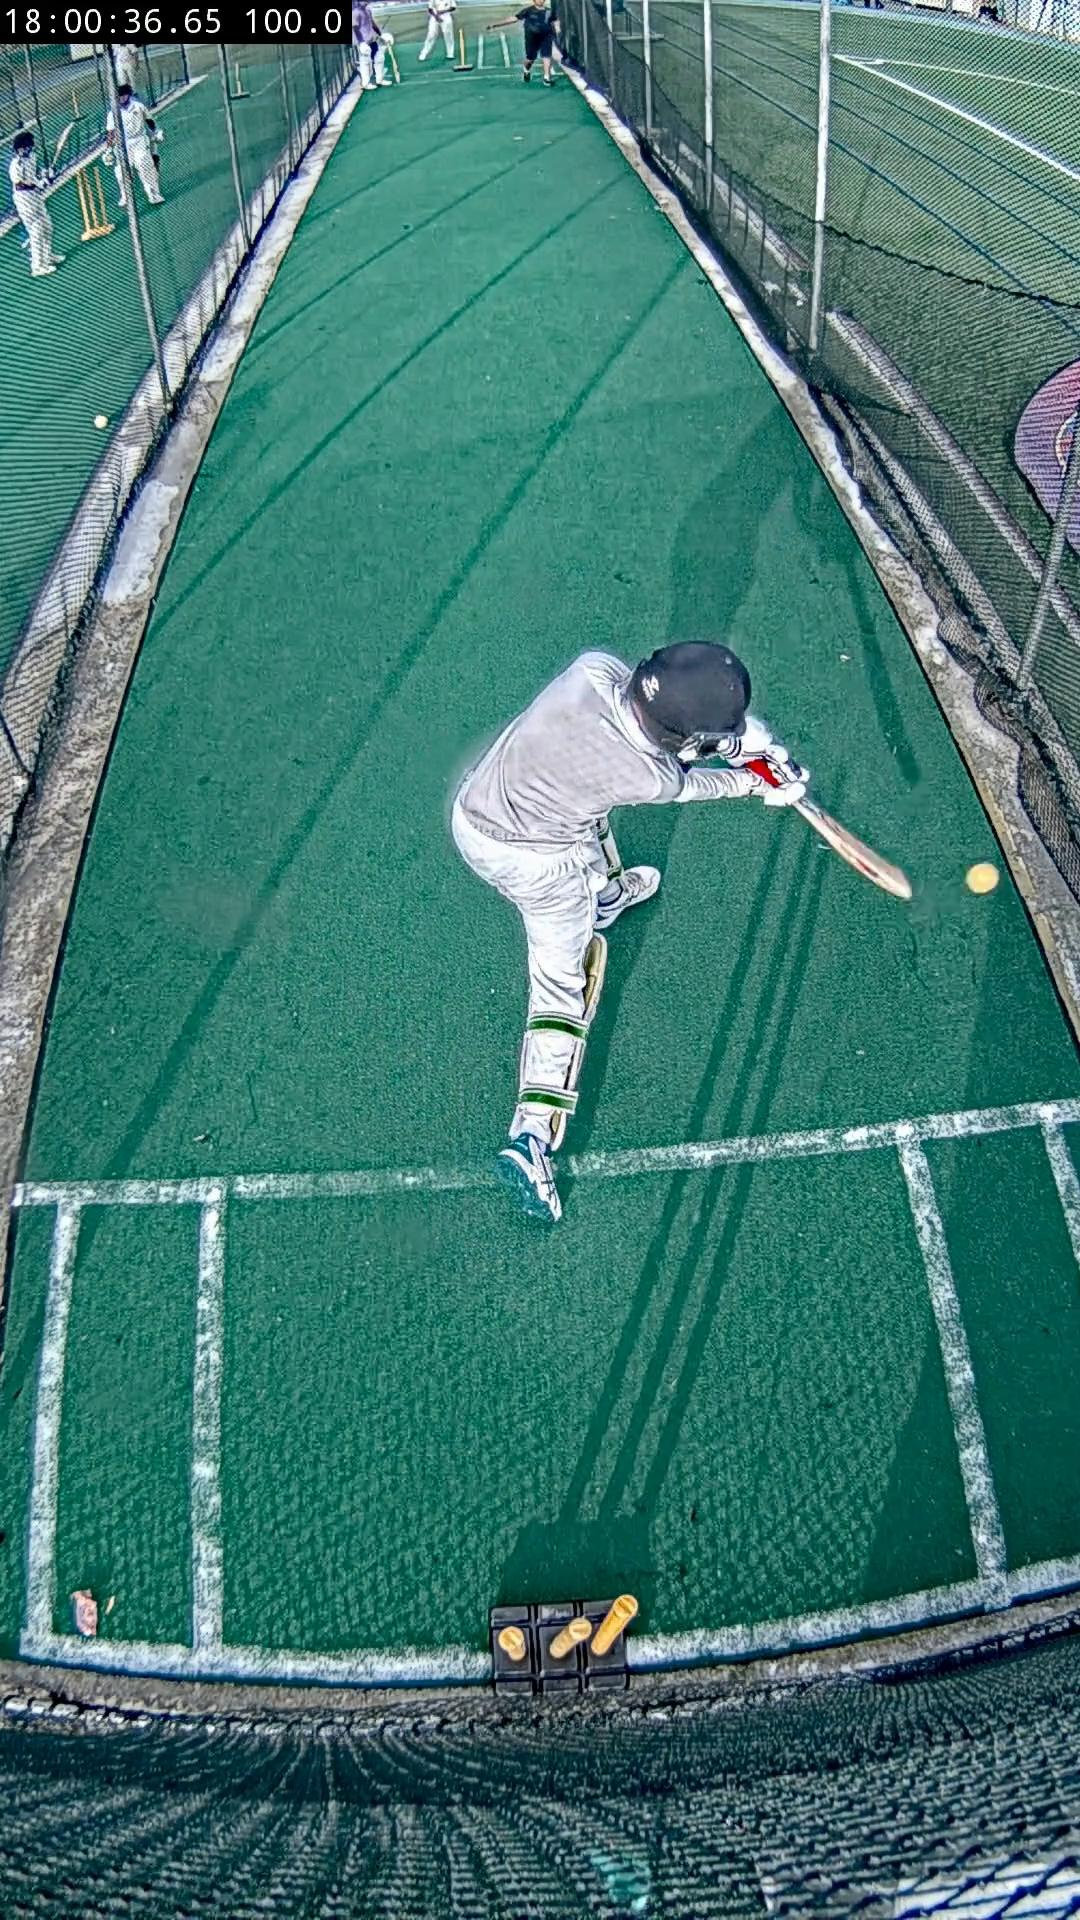ball: (964, 862, 1001, 897)
bat: (795, 795, 911, 899)
gloves: (720, 716, 810, 806)
helmet: (630, 641, 750, 757)
pads: (551, 932, 607, 1153)
stumps: (492, 1594, 637, 1695)
